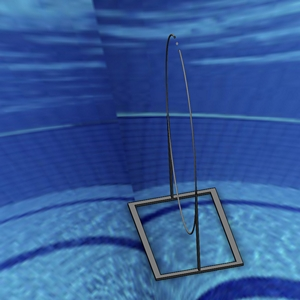circle: (125, 31, 246, 280)
